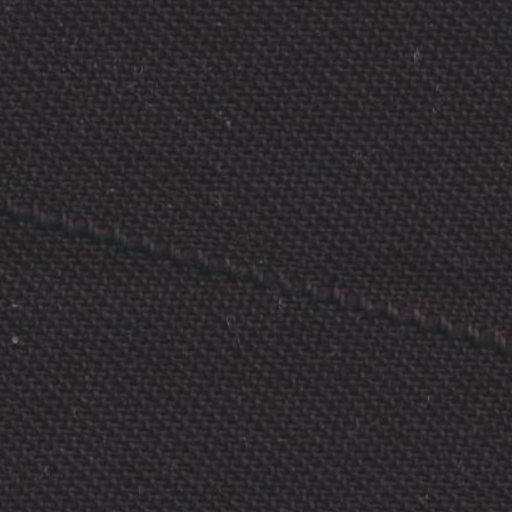DaiSha: (16, 176, 500, 354)
